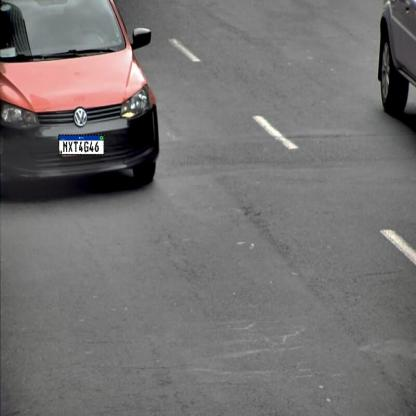PlacaM: (58, 134, 105, 156)
